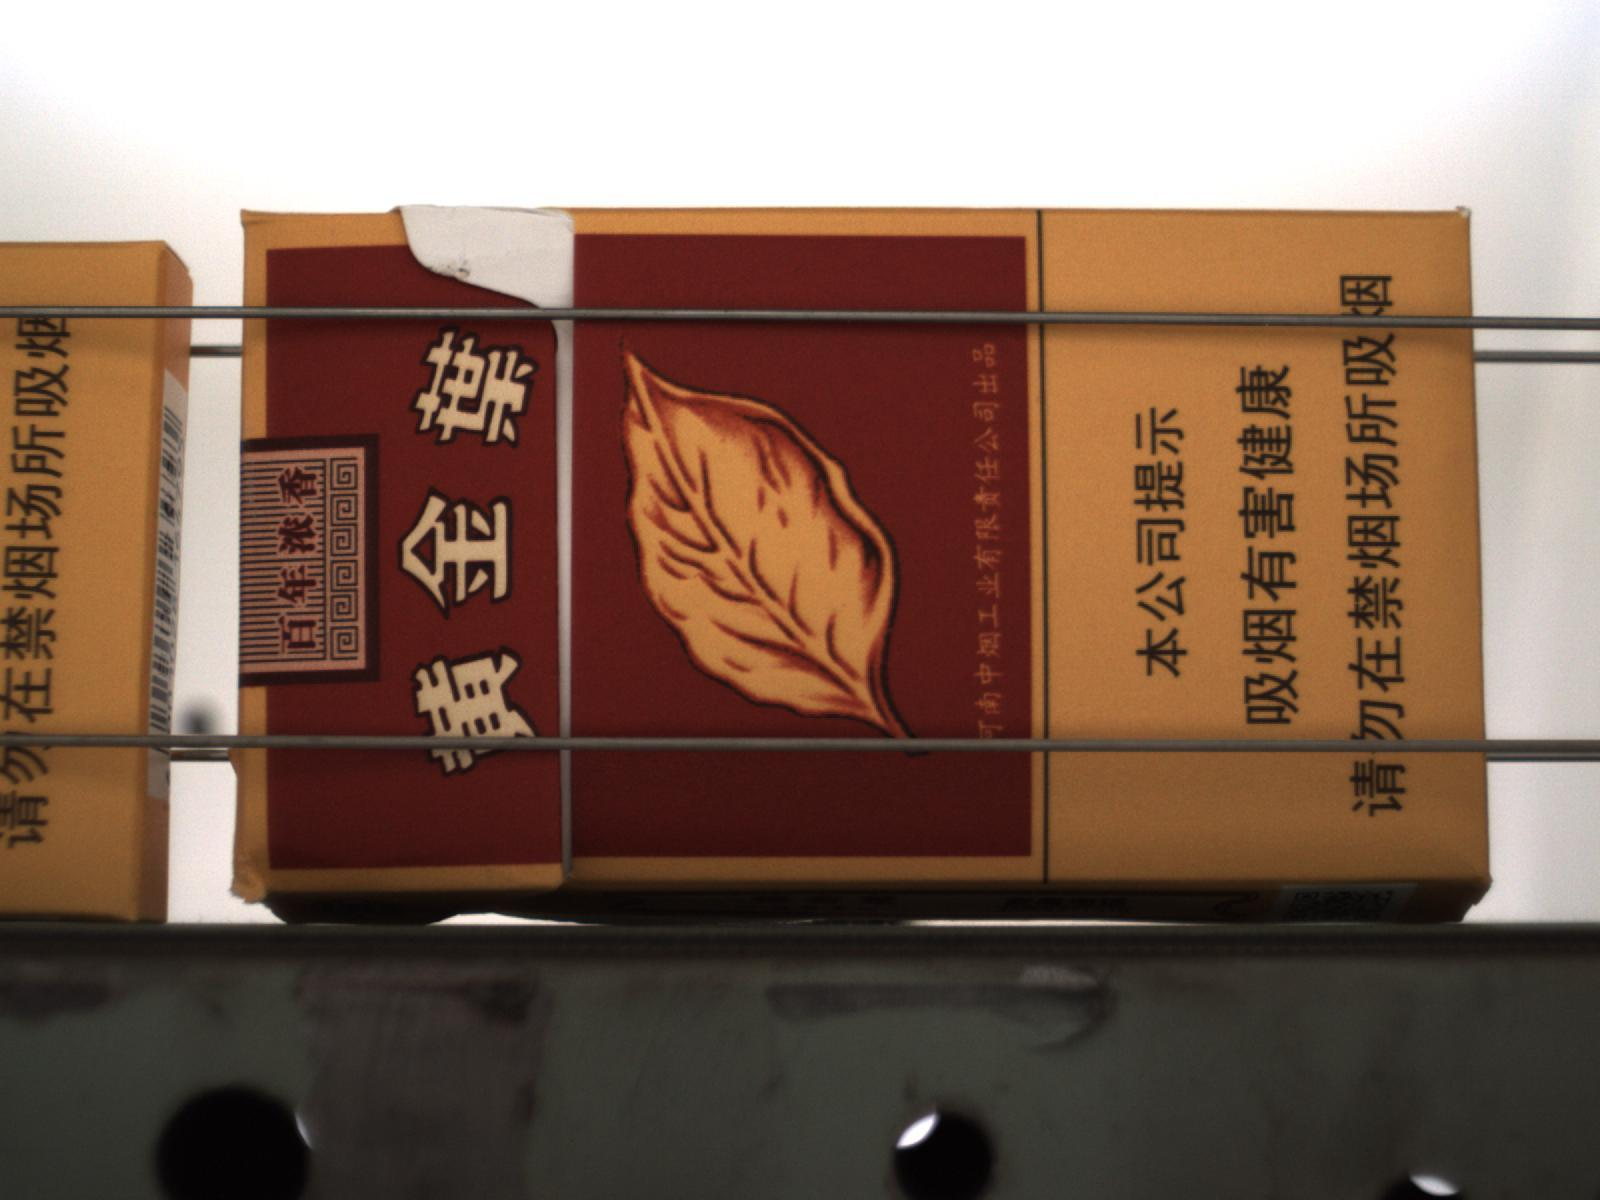crease_corner_heavy: (229, 858, 273, 904)
frame: (389, 202, 576, 308)
lower_upwarp: (236, 887, 557, 928)
